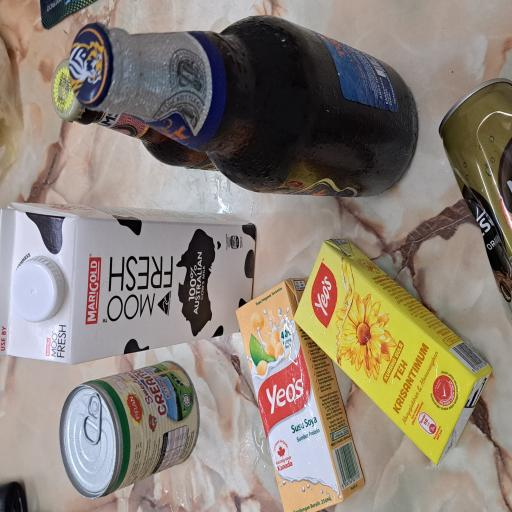can: (7, 77, 112, 267)
drink carton: (109, 0, 233, 345), (0, 314, 177, 492), (31, 390, 207, 512)
glass bottle: (235, 90, 373, 512), (253, 65, 342, 299)
pop tab: (50, 110, 90, 136)
